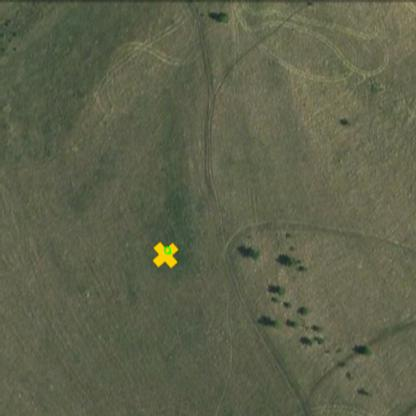Q: (162, 245, 173, 256)
plus: (152, 242, 178, 270)
